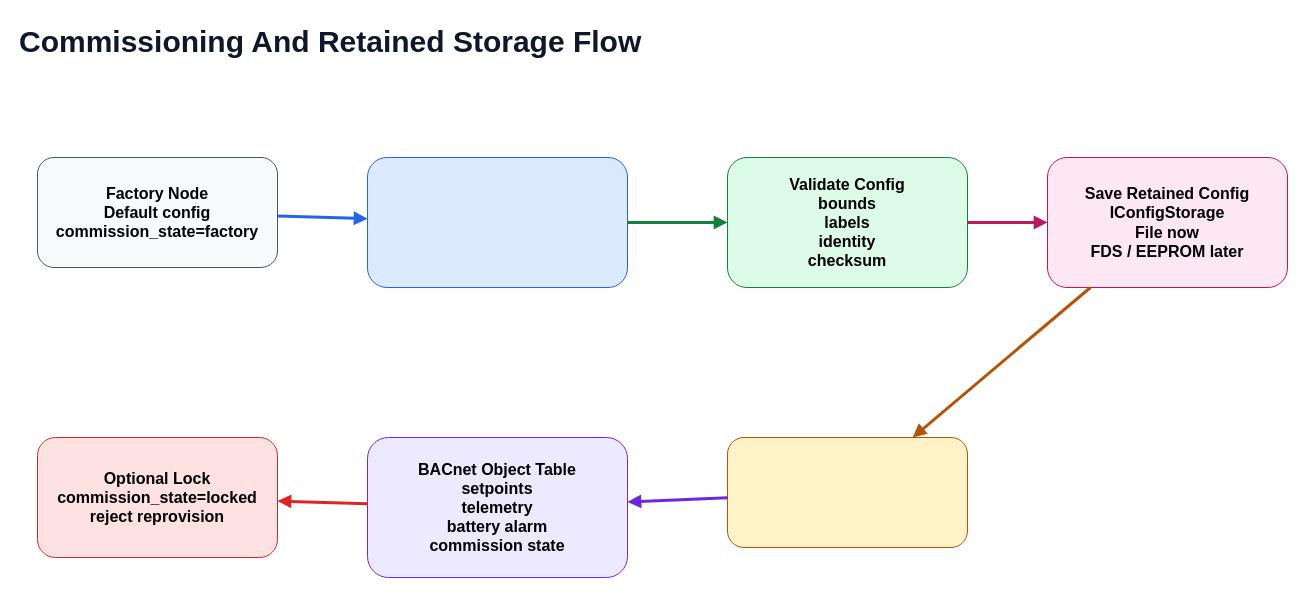
This 1305x595 diagram has some shape labels left out. The centre of each missing label's shape, as x and y in pixels:
"Provision Command device instance zone + room BACnet MAC + BLE addr" goes at [497,222].
"Reset / Reboot load config reject bad checksum" goes at [847,492].
